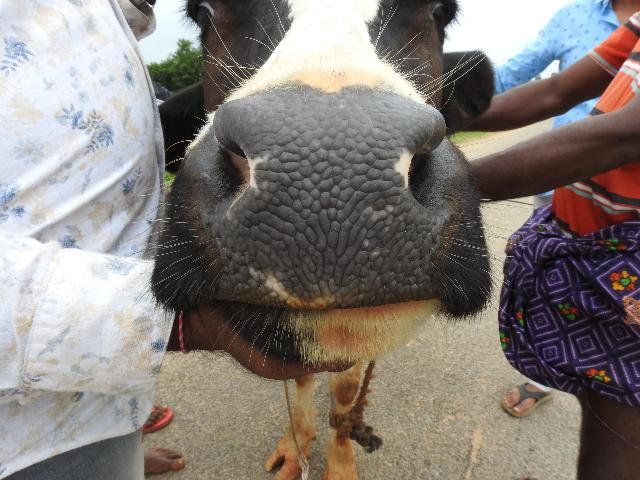Muzzle: (224, 104, 426, 302)
